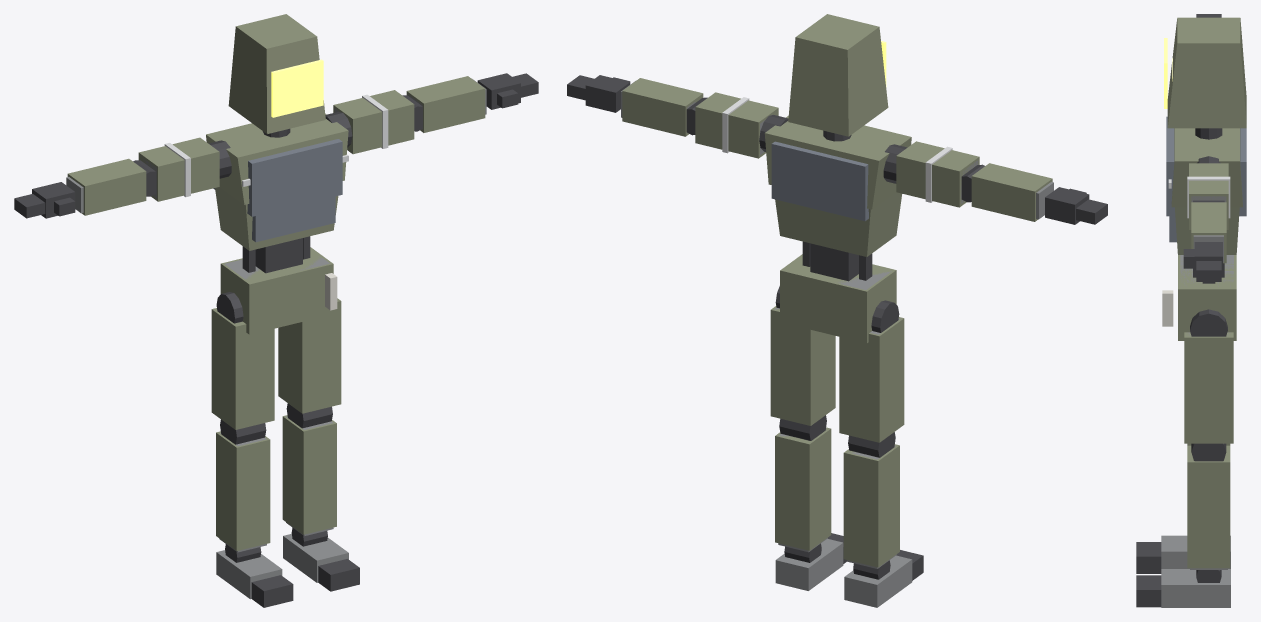
Rendered from char_F1_pilot.glb.
The picture shows the model from 3 angles, left to right: view 1: azimuth 30°, elevation 25°; view 2: azimuth 150°, elevation 25°; view 3: azimuth 270°, elevation 25°; orthographic projection. The views are drawn at different scales.
Parts seen in each view (by area): view 1: UpperChest_mesh, Head_mesh, RightUpperLeg_mesh, RightLowerLeg_mesh, LeftLowerLeg_mesh, Hips_mesh, LeftUpperLeg_mesh, Chest_mesh, RightLowerArm_mesh, RightUpperArm_mesh, LeftUpperArm_mesh, LeftLowerArm_mesh (+7 smaller); view 2: UpperChest_mesh, Head_mesh, RightUpperLeg_mesh, RightLowerLeg_mesh, LeftLowerLeg_mesh, Hips_mesh, LeftUpperLeg_mesh, Chest_mesh, RightLowerArm_mesh, RightUpperArm_mesh, LeftUpperArm_mesh, LeftLowerArm_mesh (+5 smaller); view 3: Head_mesh, LeftUpperLeg_mesh, LeftLowerLeg_mesh, UpperChest_mesh, Hips_mesh, LeftFoot_mesh, LeftUpperArm_mesh, LeftLowerArm_mesh, LeftHand_mesh, Chest_mesh, RightFoot_mesh, LeftToes_mesh (+3 smaller).
Part boxes in pixels (x1,y1,x2,y2): UpperChest_mesh: (206,114,348,216); Head_mesh: (228,14,325,134); RightUpperLeg_mesh: (211,292,274,429); RightLowerLeg_mesh: (216,419,270,552); LeftLowerLeg_mesh: (282,403,336,535); Hips_mesh: (220,247,333,334); LeftUpperLeg_mesh: (278,298,341,413); Chest_mesh: (215,187,338,250); RightLowerArm_mesh: (66,158,155,215); RightUpperArm_mesh: (138,137,219,201); LeftUpperArm_mesh: (333,90,414,154); LeftLowerArm_mesh: (402,76,486,132); UpperChest_mesh: (764,116,911,221); Head_mesh: (788,14,888,136); RightUpperLeg_mesh: (839,300,904,442); RightLowerLeg_mesh: (843,432,899,568); LeftLowerLeg_mesh: (775,415,831,552); Hips_mesh: (780,254,896,343); LeftUpperLeg_mesh: (770,286,835,425); Chest_mesh: (775,192,901,256); RightLowerArm_mesh: (961,163,1053,221); RightUpperArm_mesh: (896,141,979,207); LeftUpperArm_mesh: (695,92,778,158); LeftLowerArm_mesh: (621,78,707,136); Head_mesh: (1164,17,1246,128); LeftUpperLeg_mesh: (1184,309,1233,443); LeftLowerLeg_mesh: (1187,443,1230,569); UpperChest_mesh: (1166,116,1246,216); Hips_mesh: (1178,255,1236,340); LeftFoot_mesh: (1161,569,1230,607); LeftUpperArm_mesh: (1187,163,1230,229); LeftLowerArm_mesh: (1191,200,1226,263); LeftHand_mesh: (1183,242,1222,281); Chest_mesh: (1169,207,1239,254); RightFoot_mesh: (1161,535,1230,568); LeftToes_mesh: (1136,575,1161,607).
Bounding box in the file's own units: 1.92 × 1.93 × 0.35.
